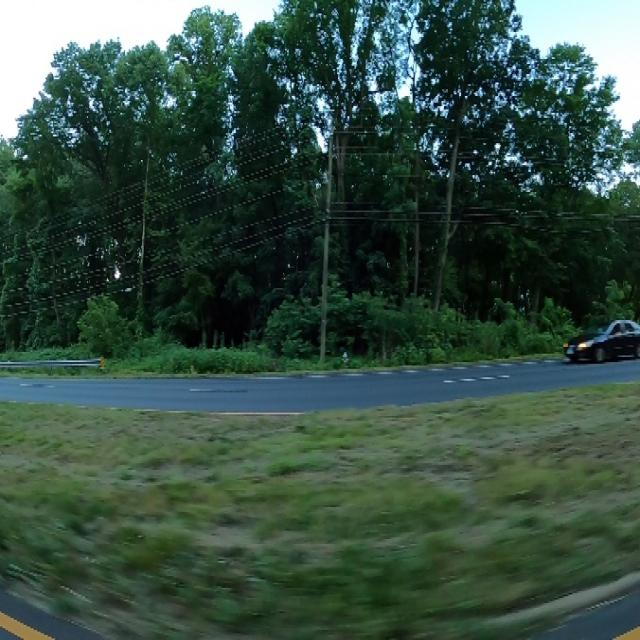car: (555, 309, 640, 375)
